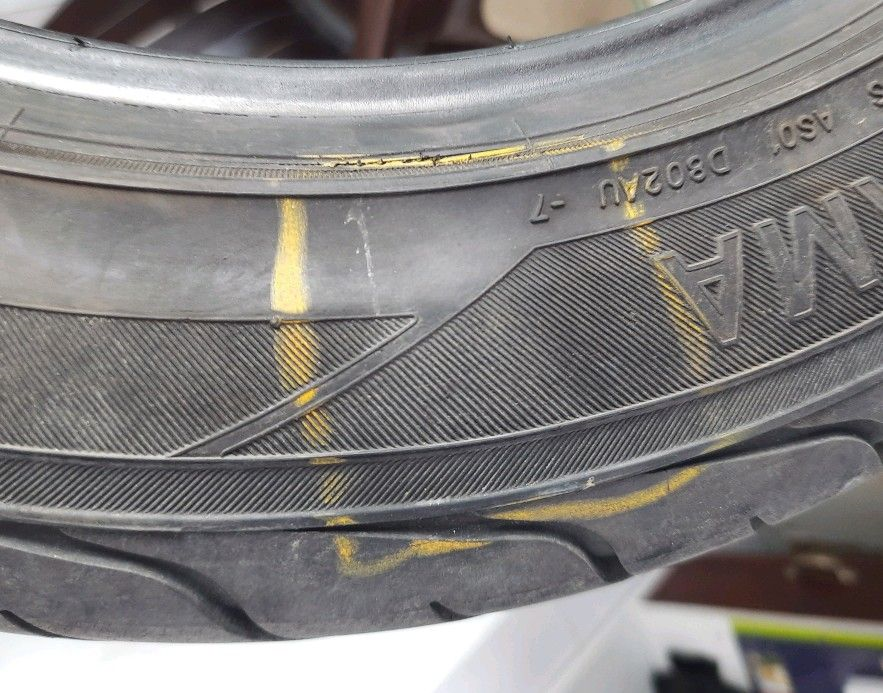CBU: (361, 247, 577, 466)
